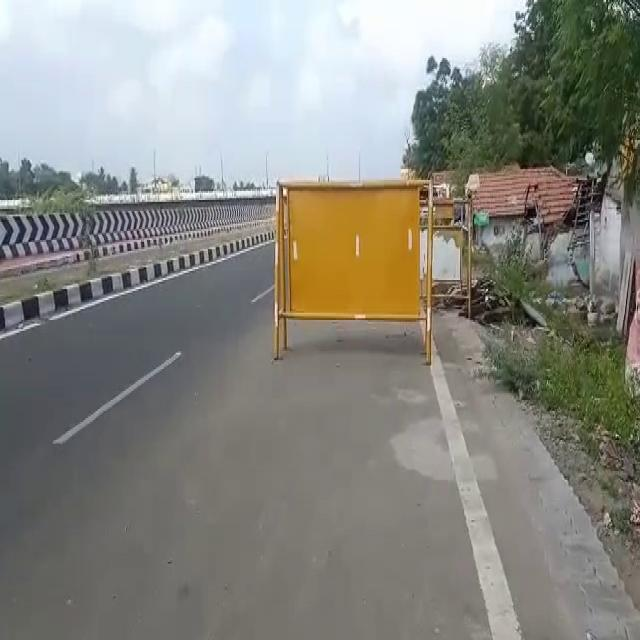fallen_object: (237, 136, 453, 384)
